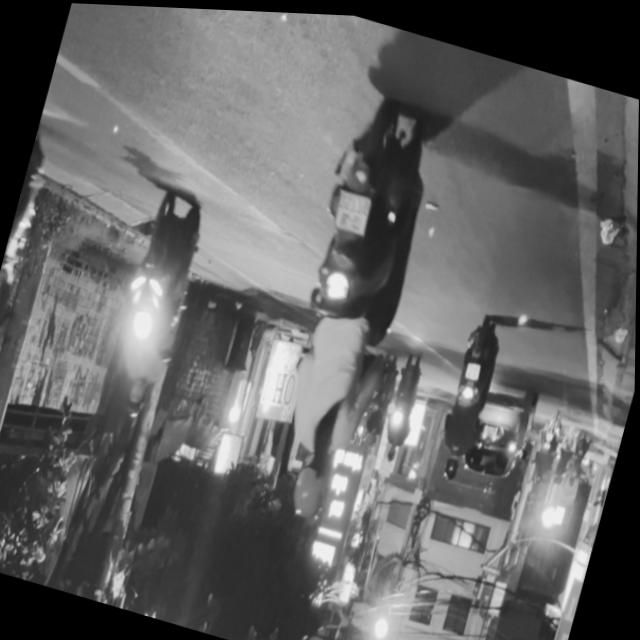helmet: (285, 445, 334, 519), (122, 374, 150, 418)
licenseplate: (244, 80, 455, 530), (90, 177, 217, 429), (0, 110, 61, 389)
nohelmet: (330, 186, 371, 233)
